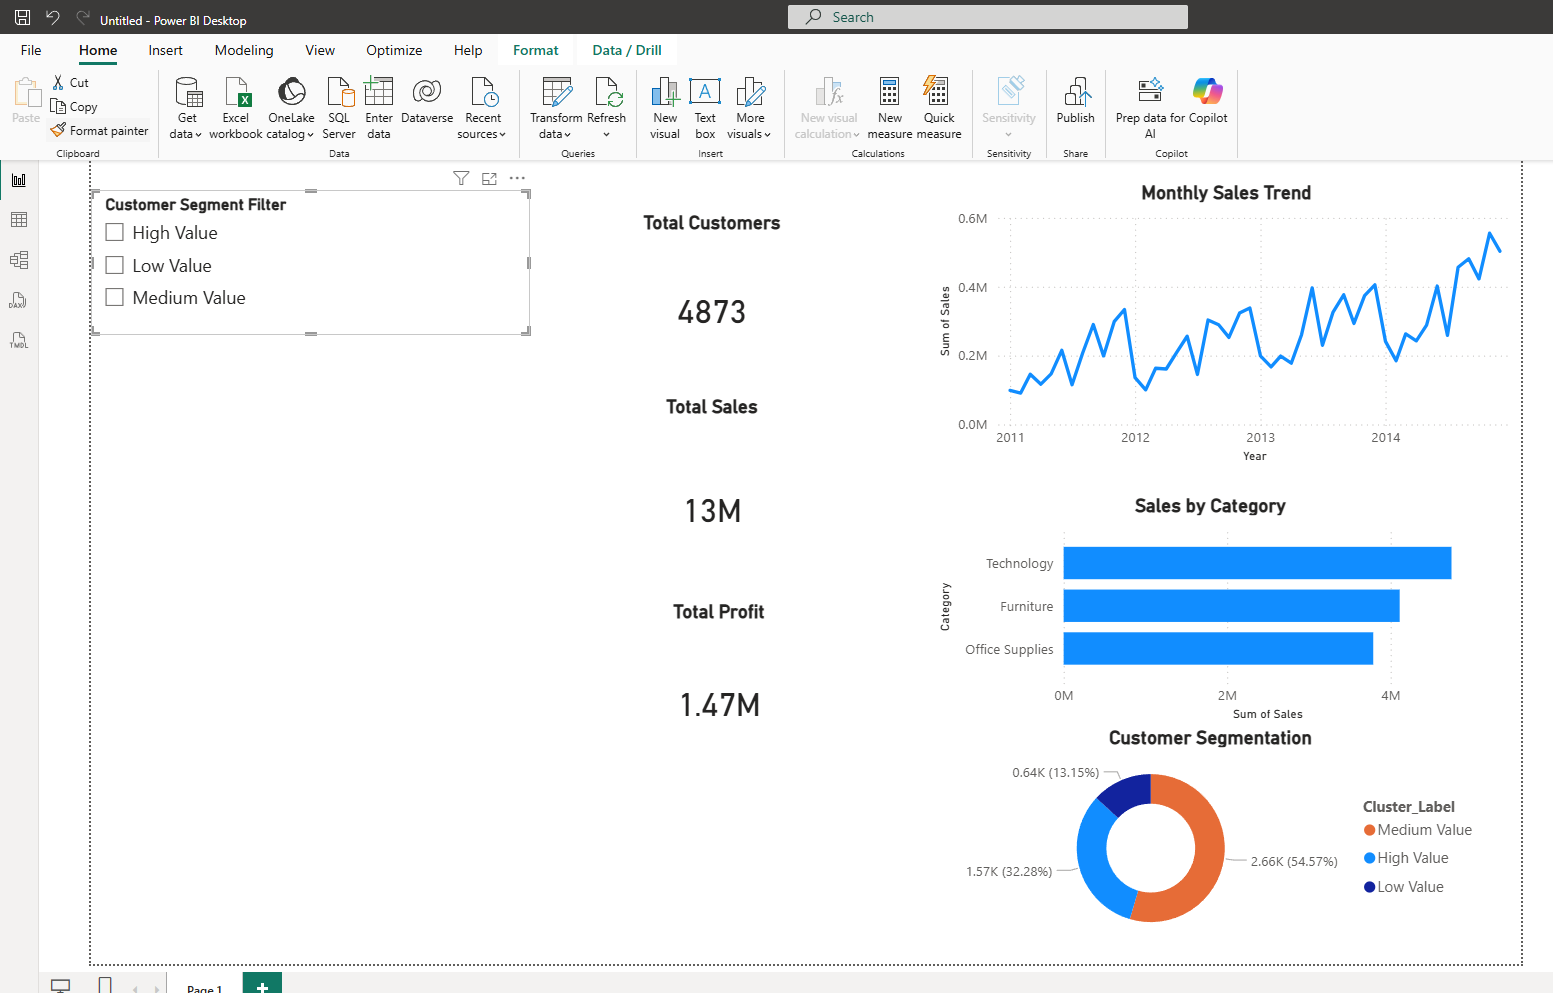

The dashboard page shown, as its layout file describes it:
{"tool":"powerbi","page":{"name":"Page 1","canvas":[1280,720],"ordinal":0},"visuals":[{"type":"card","title":"Total Sales","fields":{"Values":["Sum(final_retail_sales_with_segments.Sales)"]},"box":[335.8,216.6,396.4,174.1],"z":0},{"type":"card","title":"Total Profit","fields":{"Values":["Sum(final_retail_sales_with_segments.Profit)"]},"box":[335.8,401.4,395.4,165.3],"z":1000},{"type":"card","title":"Total Customers","fields":{"Values":["Count(final_retail_sales_with_segments.customer_id)"]},"box":[336,52.2,395.8,156.7],"z":2000},{"type":"lineChart","title":"Monthly Sales Trend","fields":{"Y":["Sum(final_retail_sales_with_segments.Sales)"],"Category":["final_retail_sales_with_segments.order_date.Variation.Date Hierarchy.Year","final_retail_sales_with_segments.order_date.Variation.Date Hierarchy.Month"]},"box":[754,18.8,525.7,257],"z":3000},{"type":"clusteredBarChart","title":"Sales by Category","fields":{"Category":["final_retail_sales_with_segments.Category"],"Y":["Sum(final_retail_sales_with_segments.Sales)"]},"box":[754,299.1,497,207.8],"z":4000},{"type":"donutChart","title":"Customer Segmentation","fields":{"Category":["final_retail_sales_with_segments.Cluster_Label"],"Y":["Count(final_retail_sales_with_segments.customer_id)"]},"box":[754,506.9,497,199.7],"z":5000},{"type":"slicer","fields":{"Values":["final_retail_sales_with_segments.Cluster_Label"]},"box":[11.4,18.9,264.9,149.5],"z":6000},{"type":"textbox","box":[412.9,0,454.1,36.9],"z":6001}]}

Visuals, with their boxes on the page's 1280x720 design canvas (x1, y1, x2, y2). These are canvas units, not pixel positions in the 1553x993 screenshot, which may show the page scaled, cropped or inside an application window:
"Total Sales" card: 336,217,732,391
"Total Profit" card: 336,401,731,567
"Total Customers" card: 336,52,732,209
"Monthly Sales Trend" lineChart: 754,19,1280,276
"Sales by Category" clusteredBarChart: 754,299,1251,507
"Customer Segmentation" donutChart: 754,507,1251,707
slicer - final_retail_sales_with_segments.Cluster_Label: 11,19,276,168
textbox: 413,0,867,37
